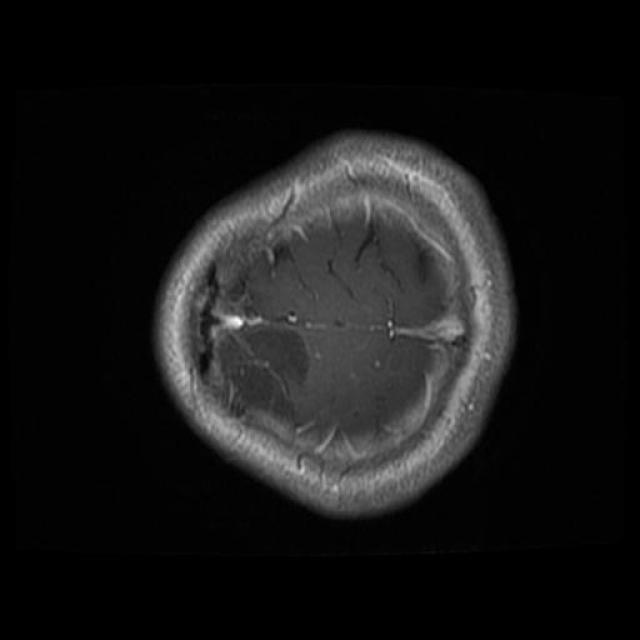Glioma: (225, 323, 310, 418)
